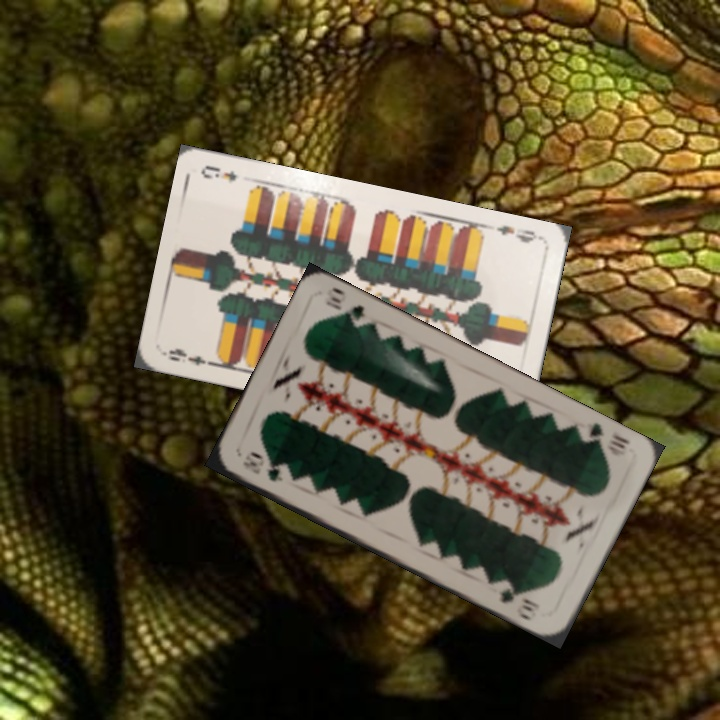E9: (161, 344, 220, 370), (491, 221, 543, 246)
G10: (575, 419, 633, 459), (238, 450, 286, 484)
